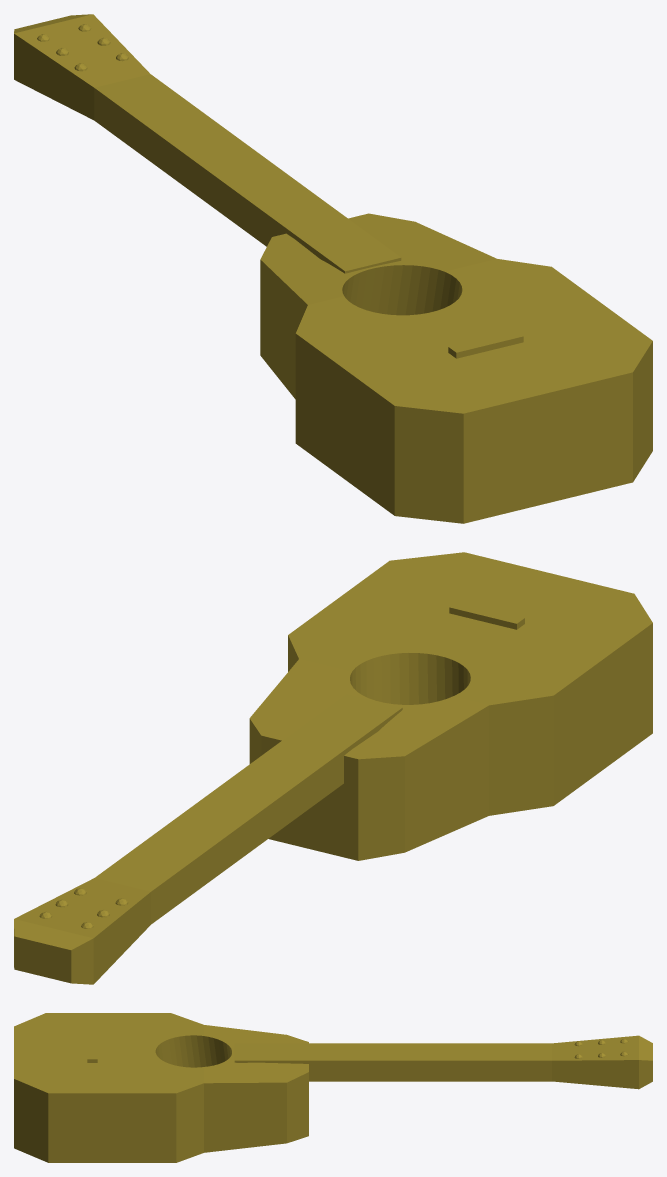
Rendered from Guitar.fbx.
The picture shows the model from 3 angles, top to bottom: view 1: azimuth 30°, elevation 25°; view 2: azimuth 150°, elevation 25°; view 3: azimuth 270°, elevation 25°; orthographic projection. The views are drawn at different scales.
Parts seen in each view (by area): view 1: Guitar; view 2: Guitar; view 3: Guitar.
Part boxes in pixels (bbox=[...]): Guitar: bbox=[14, 14, 652, 523]; Guitar: bbox=[14, 552, 652, 984]; Guitar: bbox=[14, 1013, 652, 1162].
Size of the model in its own units: 5.92 by 2.62 by 19.89.
